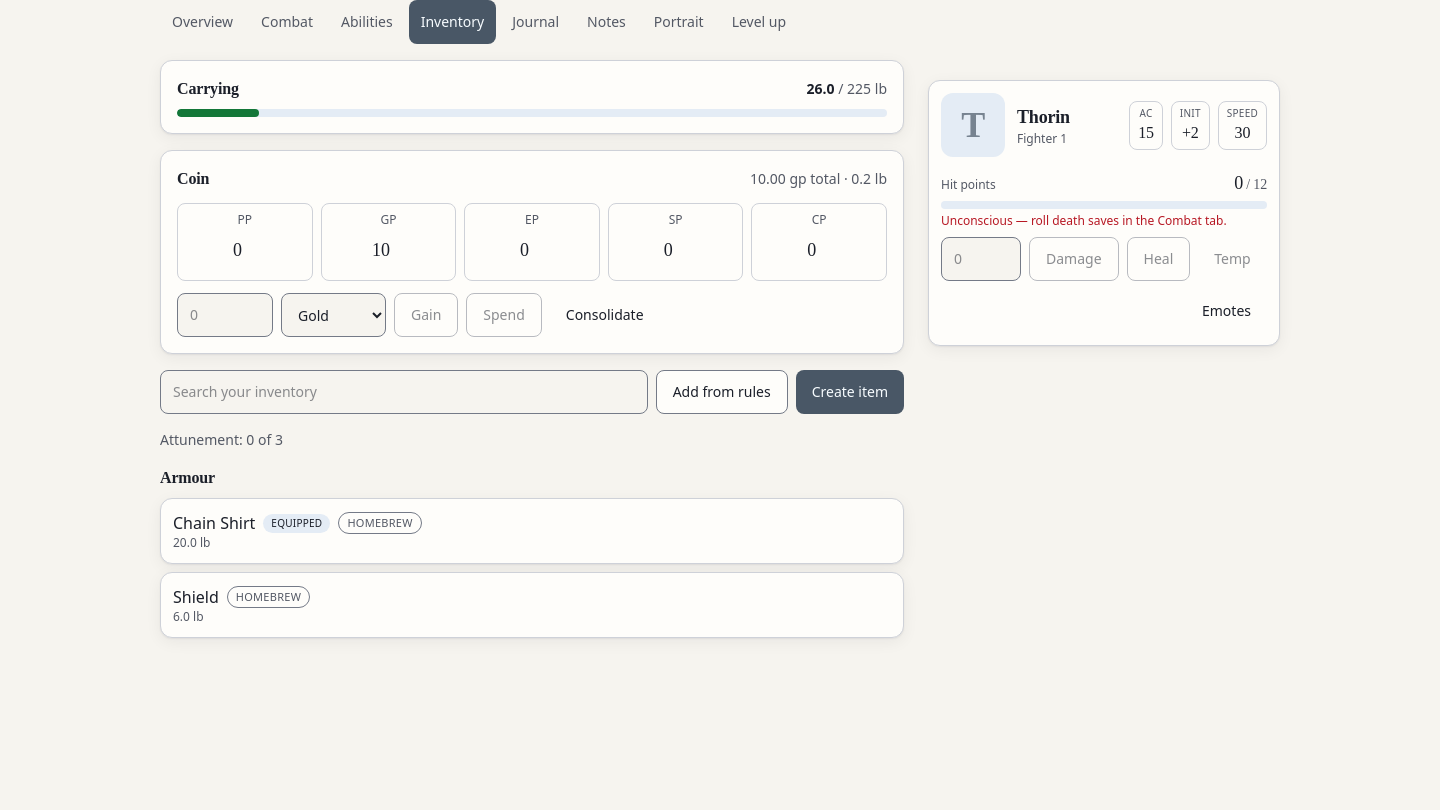
Test case: equipping moves the sheet › stacks a shield on top of worn armour
Expected: the text "15" is shown, x1=1138 y1=120 x2=1154 y2=144
Click the text "Shield": (196, 597) x1=173 y1=585 x2=219 y2=609
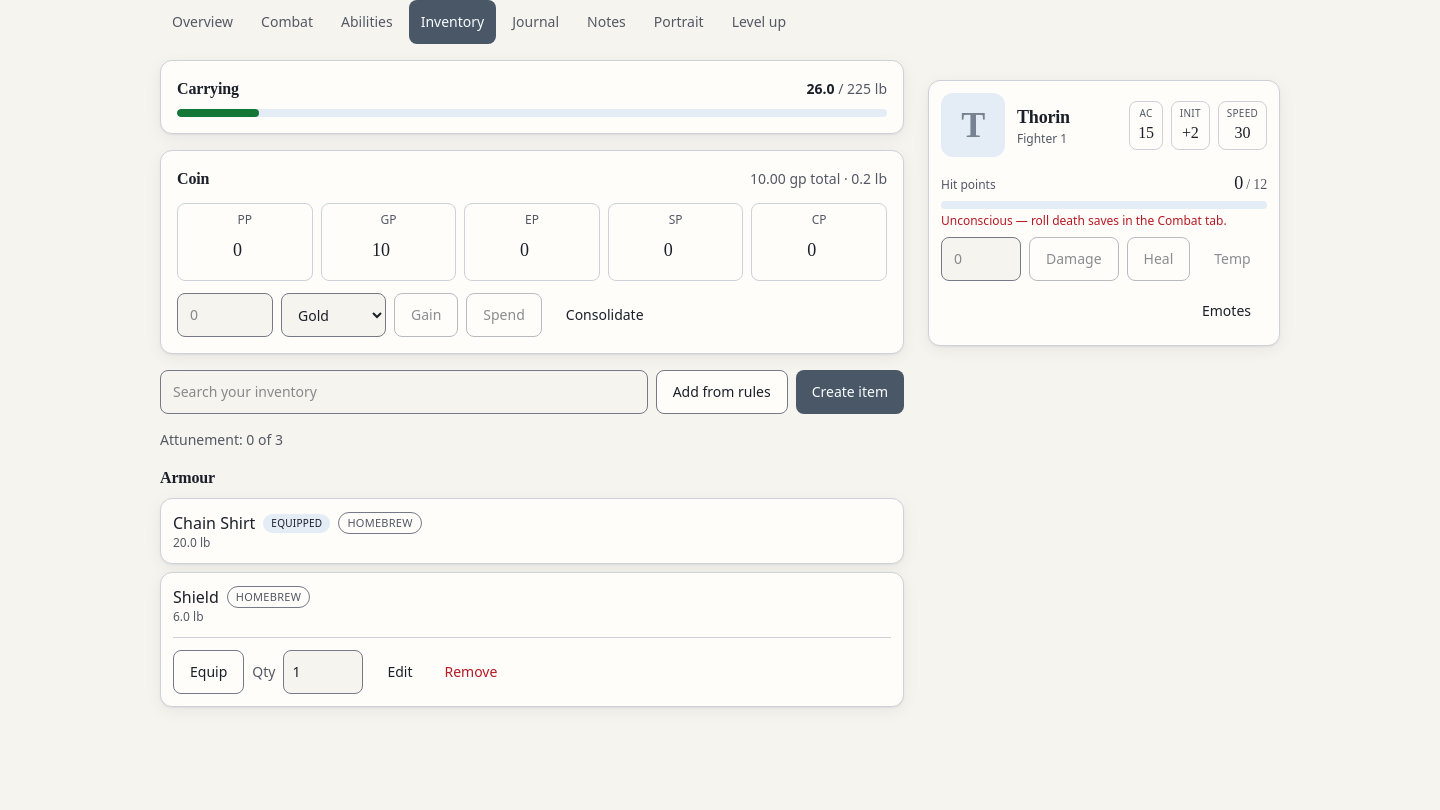
Click the button "Equip": (209, 672) x1=173 y1=650 x2=244 y2=694
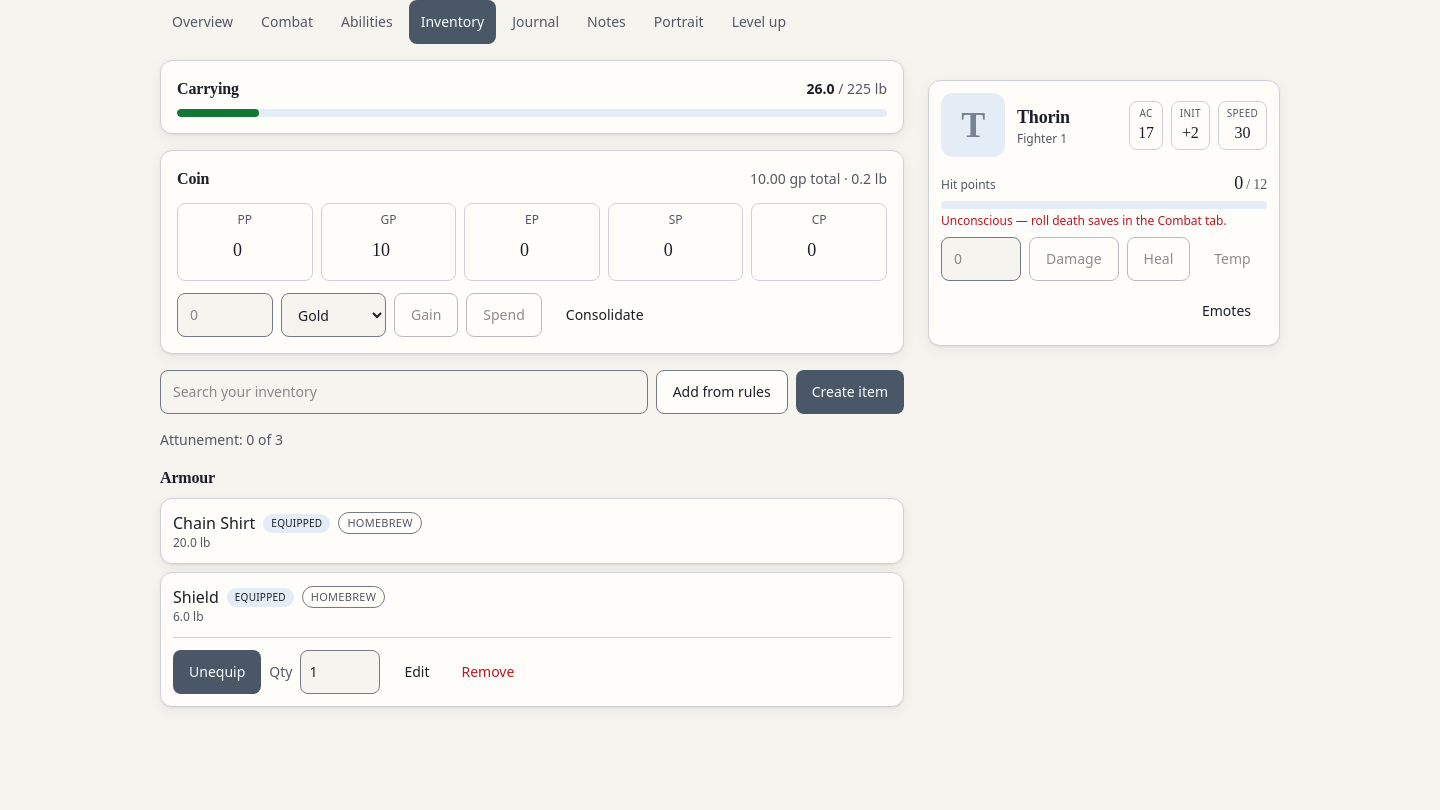
Result: the text "17" is shown at x1=1138 y1=120 x2=1154 y2=144
